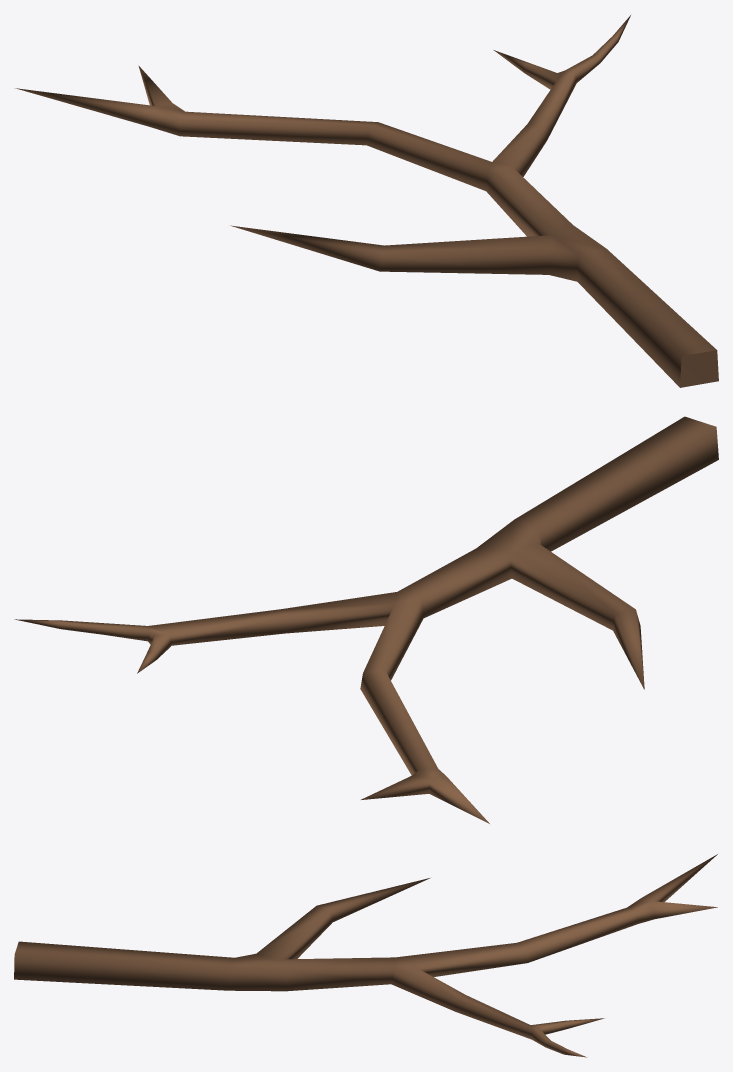
The model's file is BranchSmall1.fbx.
3 renders of one model, top to bottom at view 1: azimuth 30°, elevation 25°; view 2: azimuth 150°, elevation 25°; view 3: azimuth 270°, elevation 25°, orthographic. The views are drawn at different scales.
Visible parts, largest first — view 1: BranchSmall1; view 2: BranchSmall1; view 3: BranchSmall1.
Boxes of the visible parts, x1,y1,x2,y2 form: BranchSmall1: [15, 15, 718, 387]; BranchSmall1: [14, 416, 718, 823]; BranchSmall1: [14, 854, 717, 1057].
Bounding box in the file's own units: 36.71 × 2.4 × 52.76.
